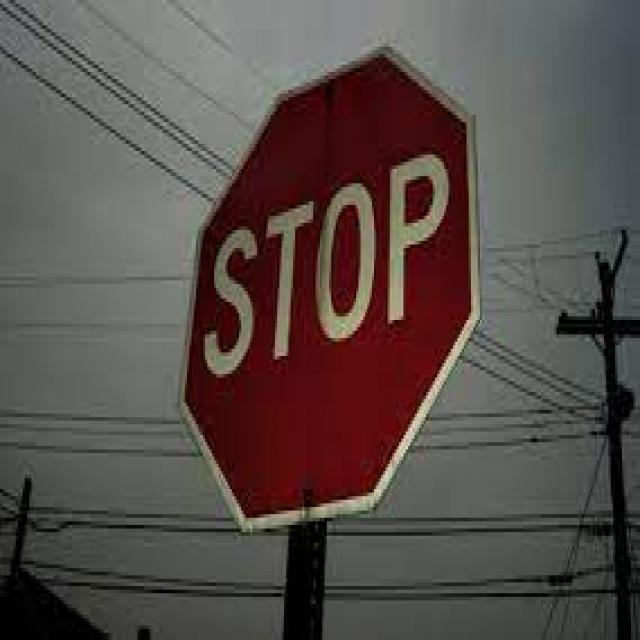stop-sign: (184, 76, 461, 532)
